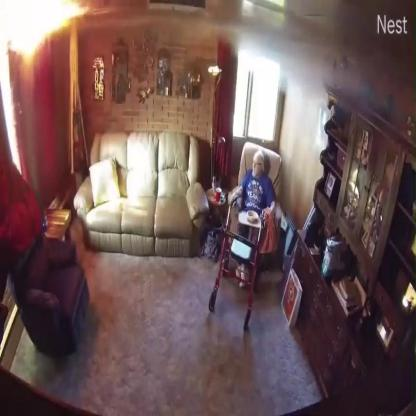fire: (1, 2, 88, 54)
